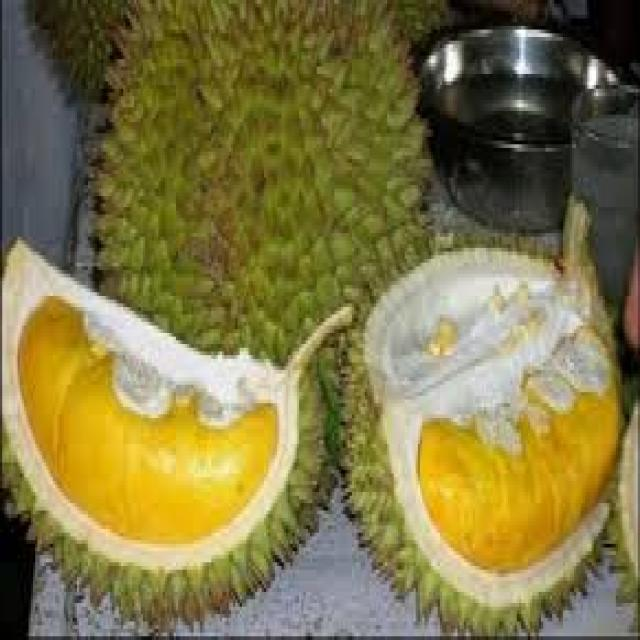organic waste: (81, 0, 429, 411), (0, 229, 350, 636), (332, 189, 625, 636), (16, 288, 277, 544), (413, 315, 624, 577), (22, 0, 132, 100), (600, 374, 638, 636), (382, 0, 448, 44)
